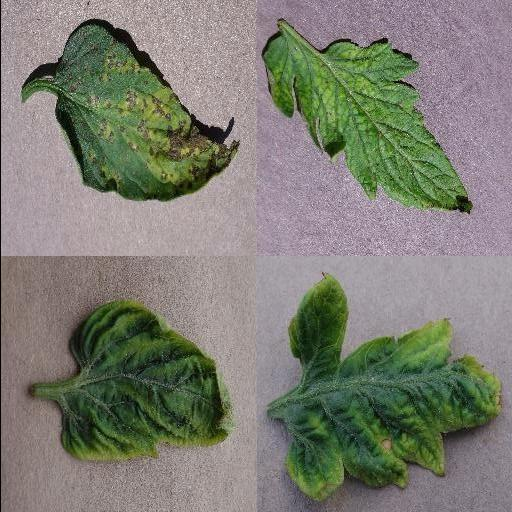Mosaic Virus: (260, 34, 474, 216)
Septoria: (53, 26, 241, 203)
Yellow Leaf Curl Virus: (283, 273, 501, 501), (61, 300, 235, 462)
